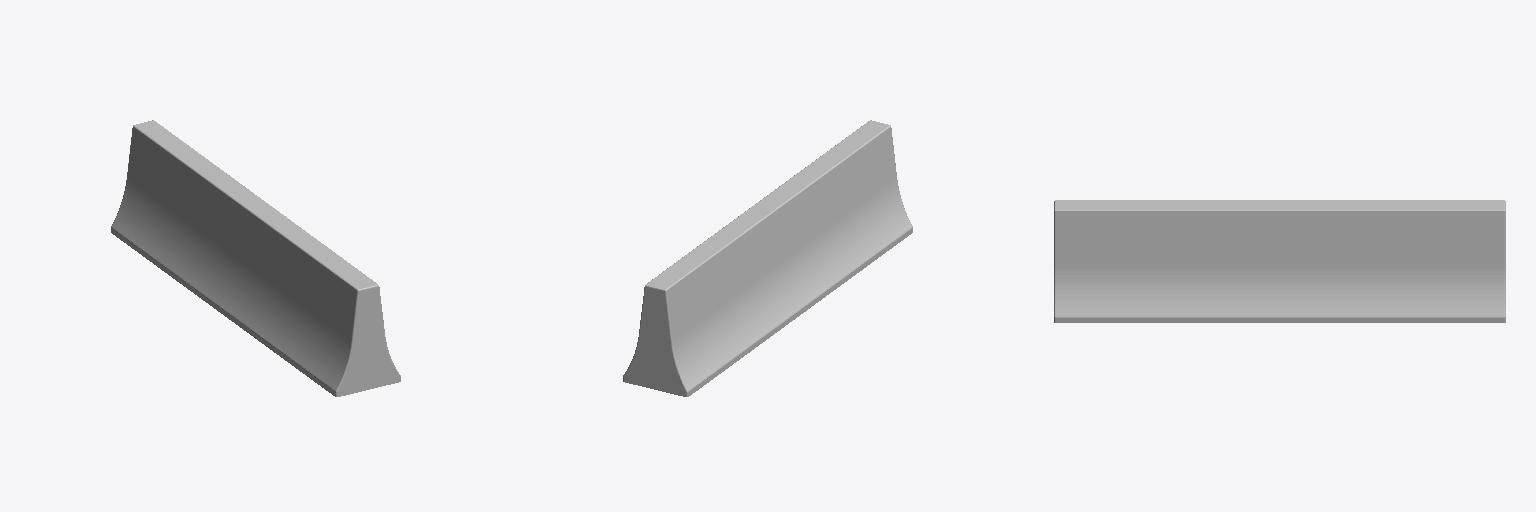
Rendered from concrete barrier.obj.
3 views of the same model, side by side, from view 1: azimuth 30°, elevation 25°; view 2: azimuth 150°, elevation 25°; view 3: azimuth 270°, elevation 25° (orthographic).
Parts seen in each view (by area): view 1: HIGHWAYBARRIER; view 2: HIGHWAYBARRIER; view 3: HIGHWAYBARRIER.
Boxes of the visible parts, box(x1,y1,x2,y2) form: HIGHWAYBARRIER: box(111, 120, 400, 396); HIGHWAYBARRIER: box(623, 120, 912, 396); HIGHWAYBARRIER: box(1054, 200, 1505, 322).
Bounding box in the file's own units: 24 × 36 × 144.